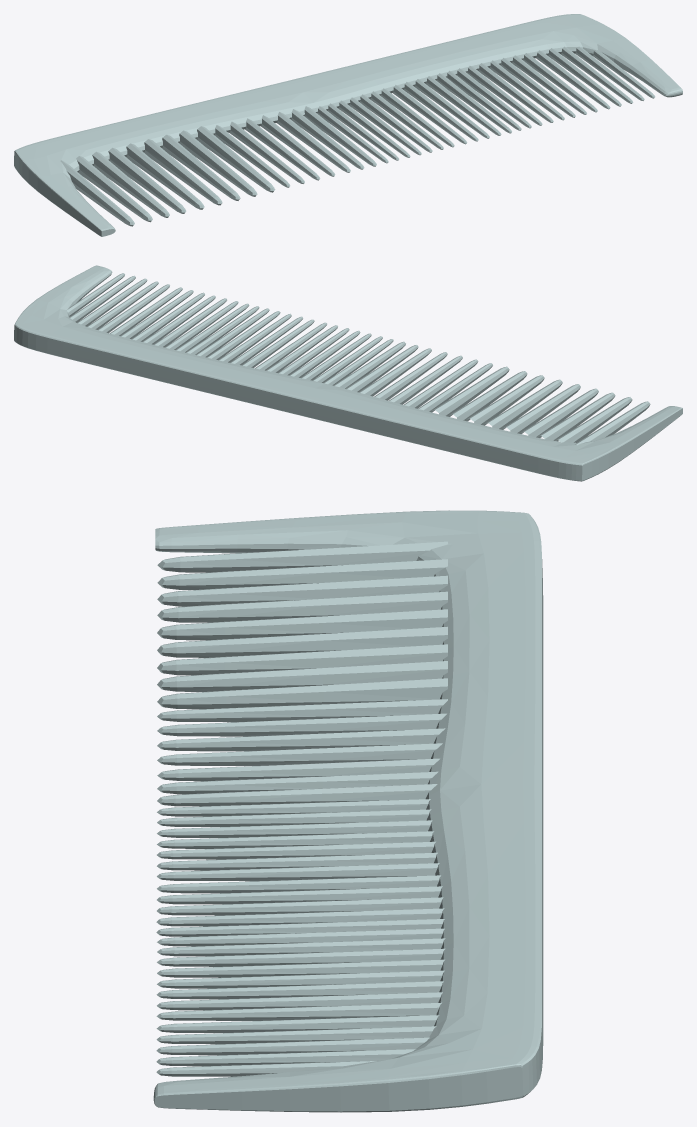
The model's file is sweethome3d-blendswap-cc-0-comb.glb.
3 views of the same model, one above another, from view 1: azimuth 30°, elevation 25°; view 2: azimuth 150°, elevation 25°; view 3: azimuth 270°, elevation 25° (orthographic). The views are drawn at different scales.
Visible parts, largest first — view 1: Cube; view 2: Cube; view 3: Cube.
Part boxes in pixels (x1,y1,x2,y2): Cube: [14, 14, 682, 236]; Cube: [14, 265, 682, 481]; Cube: [153, 510, 543, 1112].
Bounding box in the file's own units: 12.55 × 0.3855 × 3.62.
